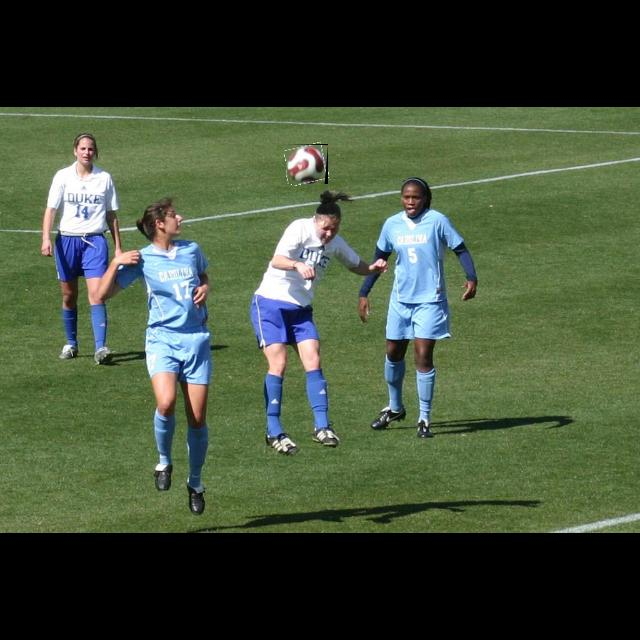Football: (286, 144, 328, 184)
